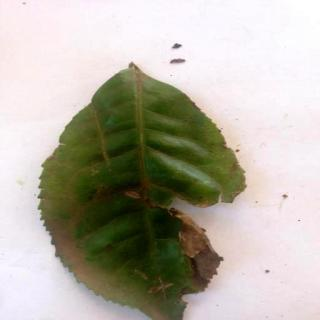Brown Blight: (41, 63, 245, 320)
